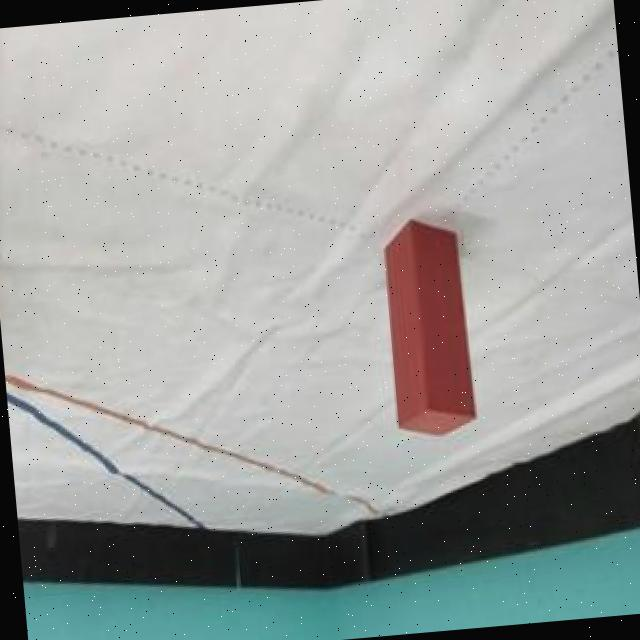redbox: (376, 213, 479, 441)
